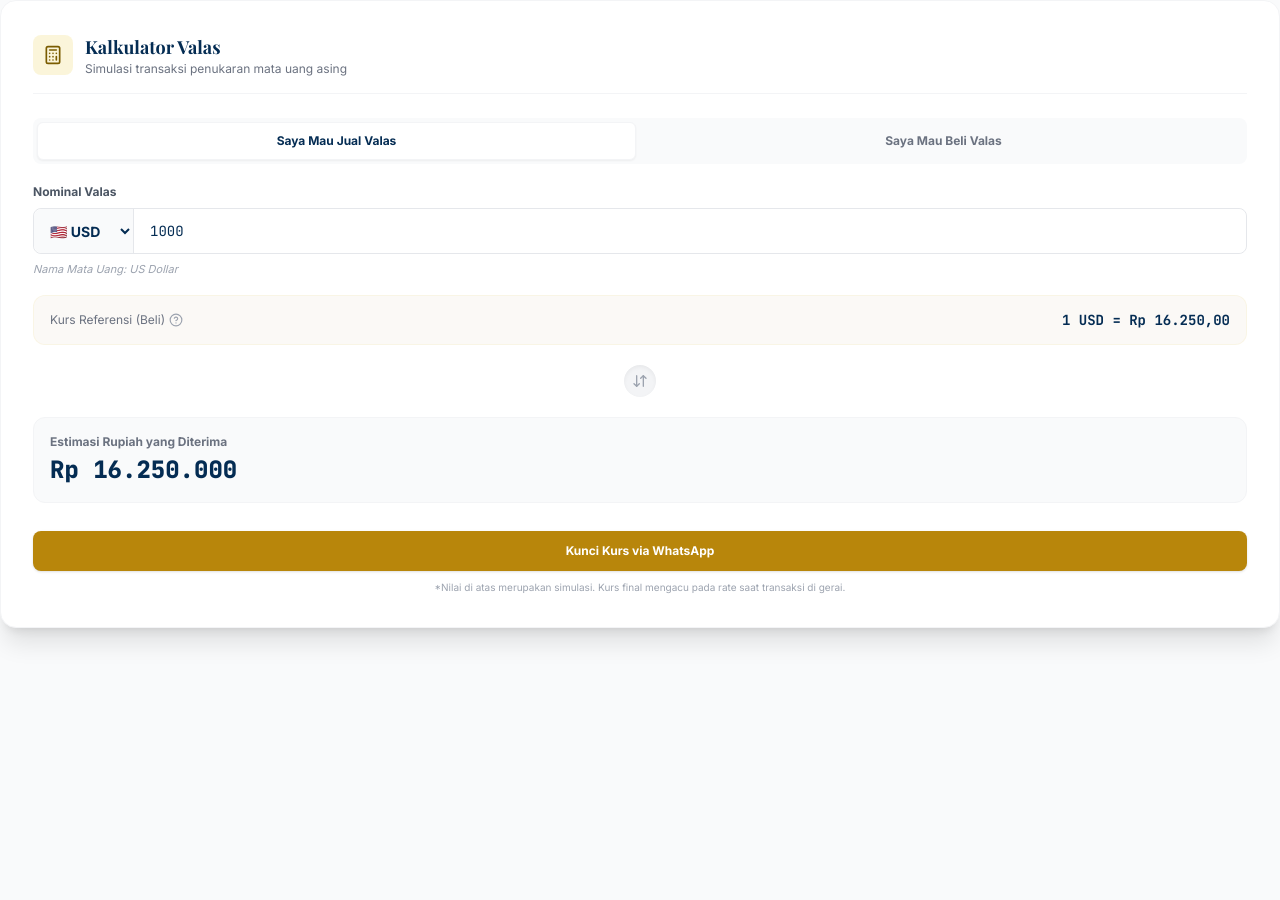
KalkCalc Component › should handle unit scaling calculation for Yen (JPY - quoted per 100)
Select "🇯🇵 JPY" in the dropdown: (84, 231) [34, 209, 134, 253]
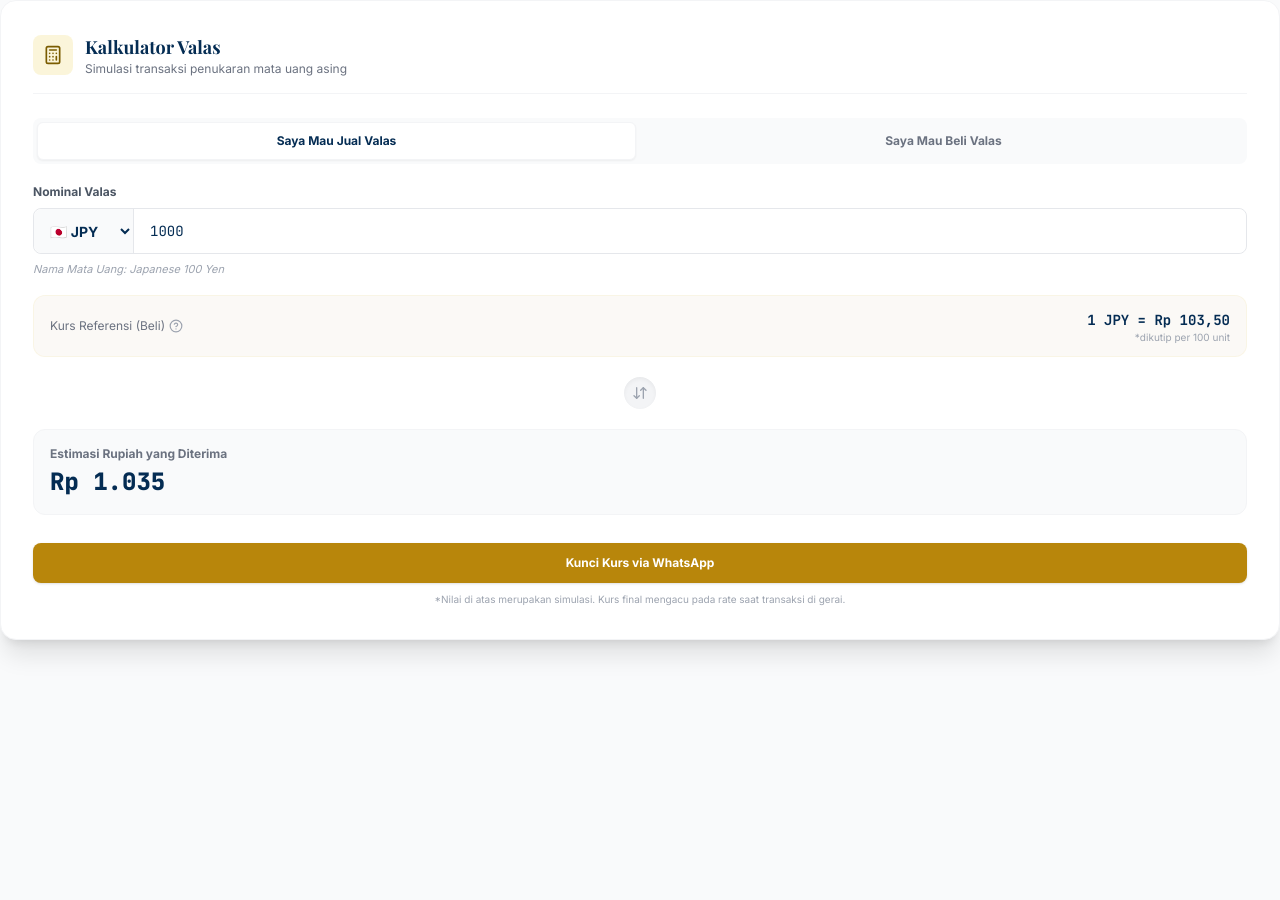
Expected: the text "1 JPY = Rp 103,50 *dikutip per 100 unit" is shown, [1087, 310, 1230, 342]
Expected: the text "Rp 1.035" is shown, [50, 466, 165, 497]
